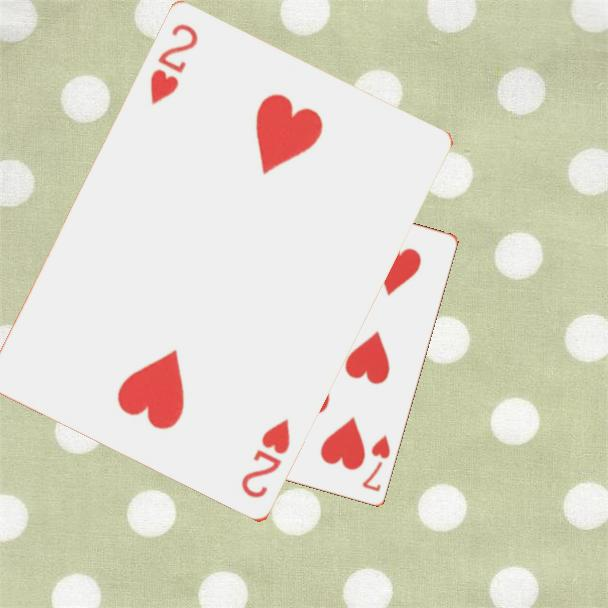h02: (237, 415, 294, 502), (147, 21, 202, 109)
h07: (359, 432, 393, 495)
